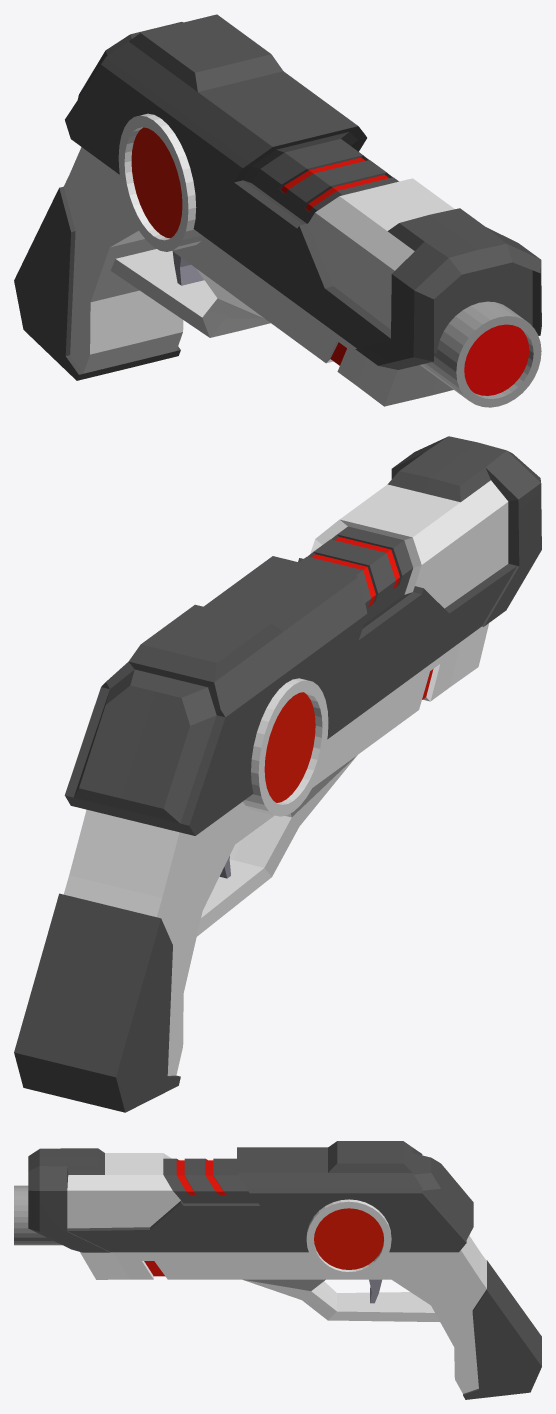
Rendered from gun.fbx.
The picture shows the model from 3 angles, top to bottom: view 1: azimuth 30°, elevation 25°; view 2: azimuth 150°, elevation 25°; view 3: azimuth 270°, elevation 25°; orthographic projection. The views are drawn at different scales.
Parts seen in each view (by area): view 1: 立方體.001; view 2: 立方體.001; view 3: 立方體.001.
Part boxes in pixels (bbox=[...]): 立方體.001: bbox=[14, 14, 541, 407]; 立方體.001: bbox=[14, 436, 541, 1112]; 立方體.001: bbox=[14, 1141, 541, 1399].
Bounding box in the file's own units: 63.06 × 164 × 338.
